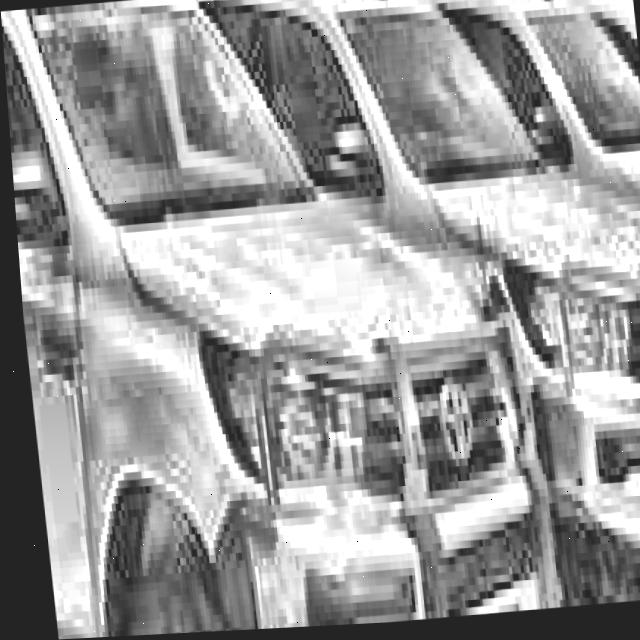light_vehicle: (0, 0, 541, 640)
